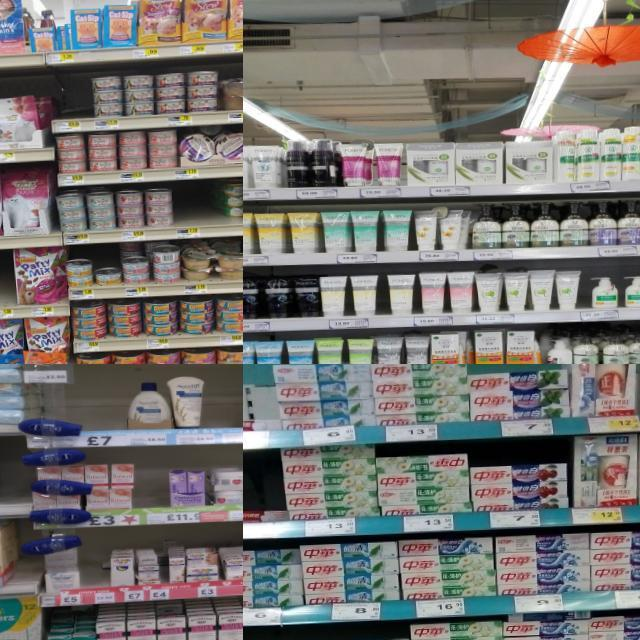empty: (80, 368, 128, 446), (204, 368, 243, 444), (134, 451, 170, 524), (174, 180, 211, 238), (56, 76, 91, 130), (0, 441, 23, 518), (78, 547, 104, 604), (0, 251, 11, 320)
